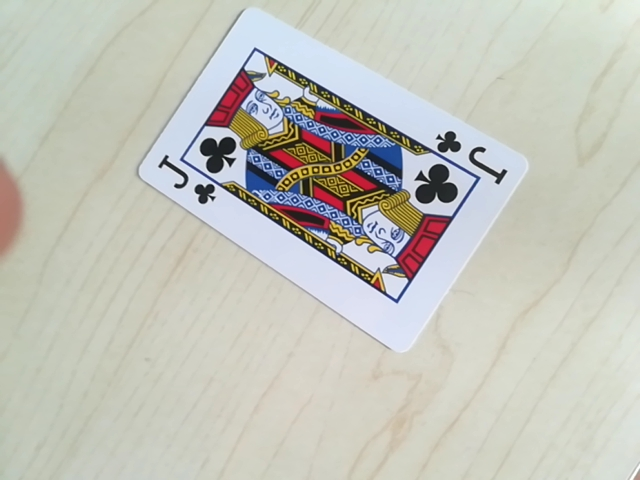mh j: (428, 126, 506, 179), (155, 164, 219, 208)
